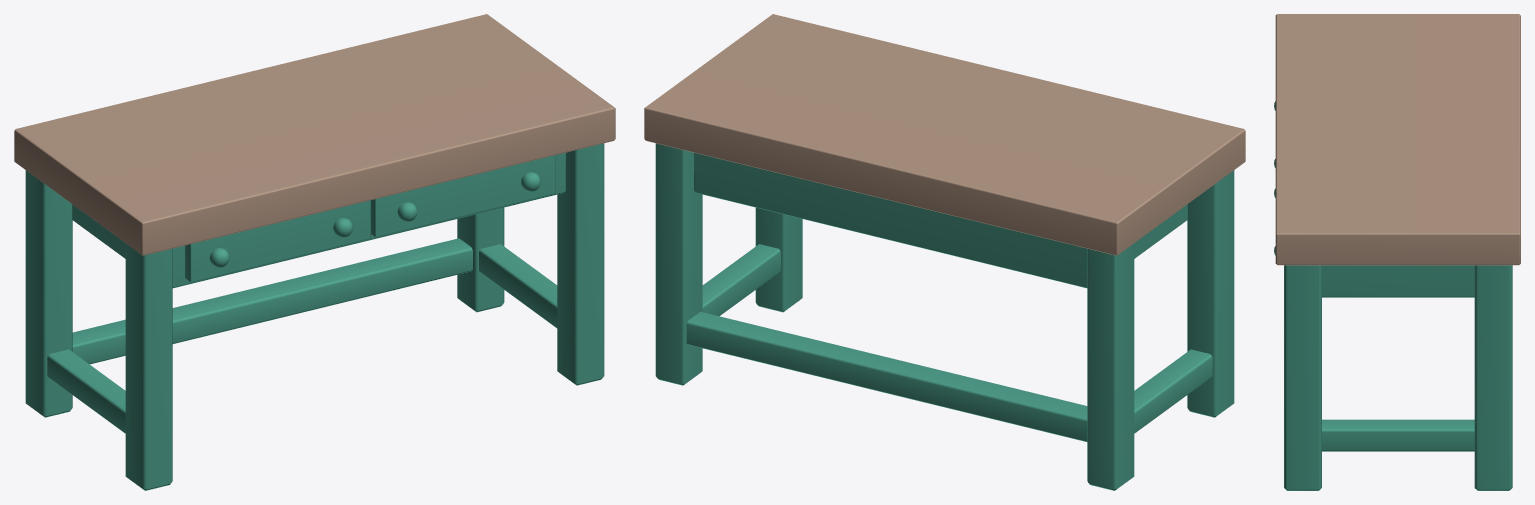
The model's file is Table_green.glb.
3 views of the same model, side by side, from view 1: azimuth 30°, elevation 25°; view 2: azimuth 150°, elevation 25°; view 3: azimuth 270°, elevation 25° (orthographic). The views are drawn at different scales.
Parts seen in each view (by area): view 1: Table_10; view 2: Table_10; view 3: Table_10.
Part boxes in pixels (box(x1,y1,x2,y2)): Table_10: box(14, 14, 615, 490); Table_10: box(644, 14, 1245, 490); Table_10: box(1274, 14, 1520, 490).
Bounding box in the file's own units: 2.15 × 1.19 × 1.02.
Materials: 1 (1 with a texture image).
